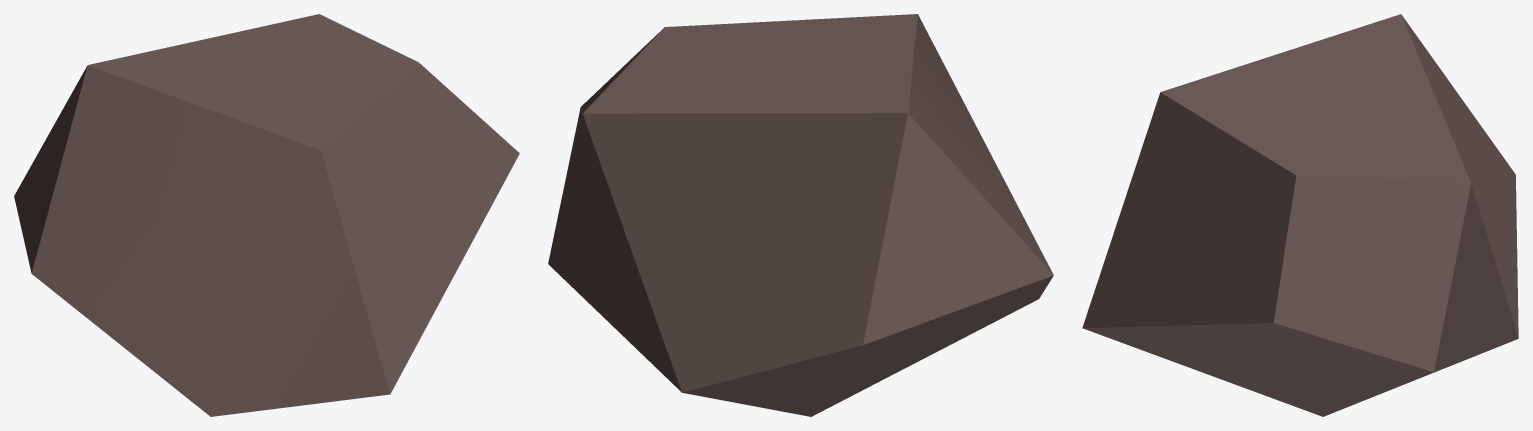
File: env_clutter_pebble01.fbx
3 views of the same model, side by side, from view 1: azimuth 30°, elevation 25°; view 2: azimuth 150°, elevation 25°; view 3: azimuth 270°, elevation 25° (orthographic). The views are drawn at different scales.
Parts seen in each view (by area): view 1: clutter_pebble01; view 2: clutter_pebble01; view 3: clutter_pebble01.
Part boxes in pixels (x1,y1,x2,y2): clutter_pebble01: [14, 14, 519, 416]; clutter_pebble01: [548, 14, 1053, 416]; clutter_pebble01: [1082, 14, 1518, 416].
Size of the model in its own units: 1.78 by 1.46 by 1.26.
